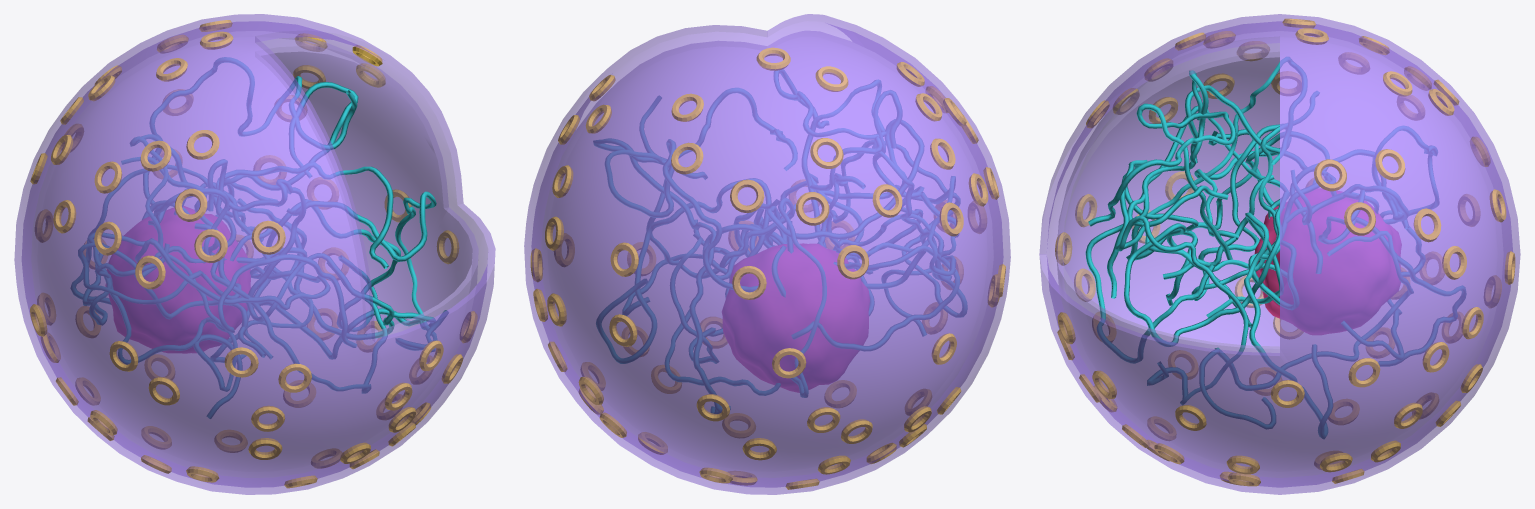
Rendered from nucleus.glb.
3 views of the same model, side by side, from view 1: azimuth 30°, elevation 25°; view 2: azimuth 150°, elevation 25°; view 3: azimuth 270°, elevation 25° (orthographic).
Parts seen in each view (by area): view 1: nuc_outer, nuc_inner, nuc_chromatin, nuc_pore, nuc_nucleolus; view 2: nuc_outer, nuc_inner, nuc_chromatin, nuc_pore, nuc_nucleolus; view 3: nuc_outer, nuc_inner, nuc_chromatin, nuc_pore, nuc_nucleolus.
Part boxes in pixels (bbox=[...]): nuc_outer: bbox=[14, 14, 495, 494]; nuc_inner: bbox=[31, 31, 478, 477]; nuc_chromatin: bbox=[71, 57, 448, 418]; nuc_pore: bbox=[30, 20, 477, 488]; nuc_nucleolus: bbox=[106, 206, 250, 353]; nuc_outer: bbox=[524, 14, 1010, 494]; nuc_inner: bbox=[541, 31, 993, 477]; nuc_chromatin: bbox=[593, 69, 967, 413]; nuc_pore: bbox=[530, 47, 1005, 489]; nuc_nucleolus: bbox=[722, 243, 869, 392]; nuc_outer: bbox=[1039, 14, 1520, 494]; nuc_inner: bbox=[1056, 31, 1503, 477]; nuc_chromatin: bbox=[1085, 57, 1466, 438]; nuc_pore: bbox=[1055, 18, 1515, 486]; nuc_nucleolus: bbox=[1254, 188, 1401, 334].
Size of the model in its own units: 2 by 2 by 2.
